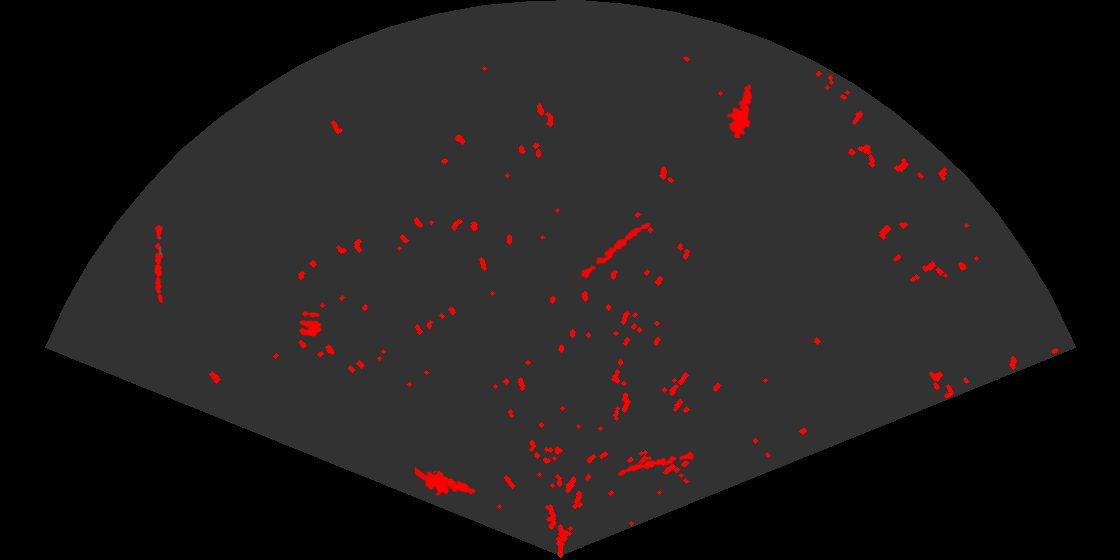ball: (297, 310, 323, 338)
chain: (570, 221, 652, 285), (616, 450, 695, 477), (153, 224, 165, 304)
frogman: (415, 465, 477, 498), (725, 82, 754, 138)
